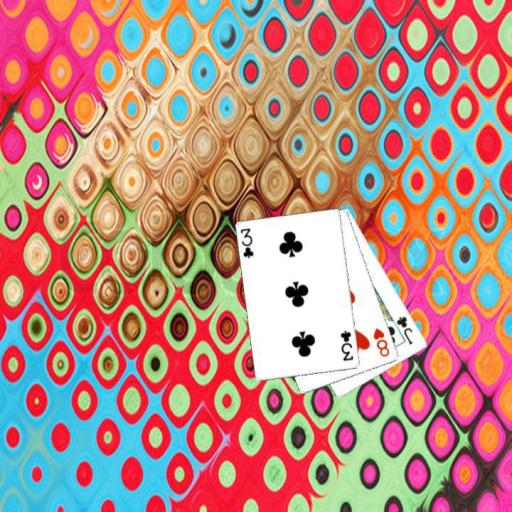3C: (337, 328, 355, 363), (238, 226, 256, 261)
8H: (371, 325, 391, 358)
JC: (393, 313, 415, 346)
